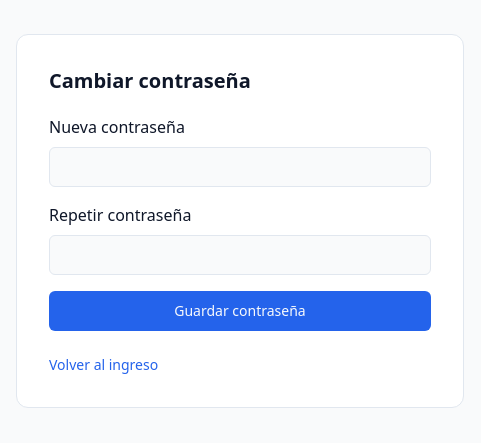
CA-5 reset captura fragmento, valida confirmación y solo entonces envía contraseña
Expected: the heading "Cambiar contraseña" is shown, [49,67,251,94]
Type "FictionalPassword123!" into the password field labelled "Nueva contraseña" at (240, 167), box [49,147,431,187]
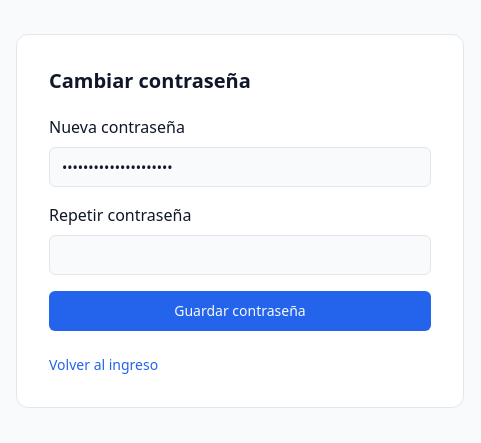
Type "OtraPassword123!" into the password field labelled "Repetir contraseña" at (240, 255), box [49,235,431,275]
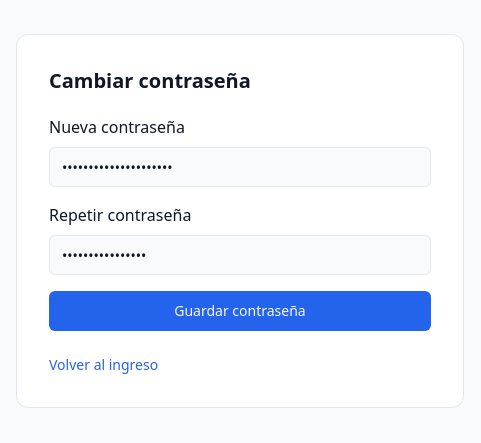
Click the button "Guardar contraseña" at (240, 311), box [49,291,431,331]
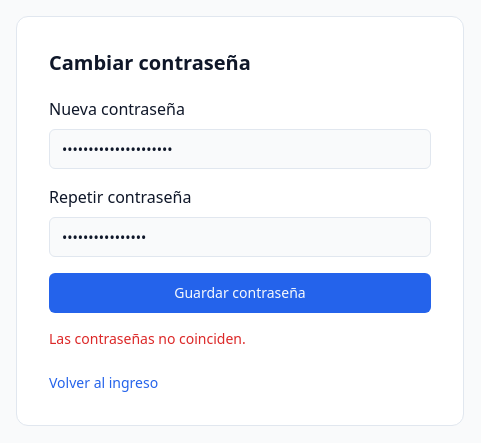
Expected: the message shows "no coinciden", [49,329,246,348]
Type "FictionalPassword123!" into the password field labelled "Repetir contraseña" at (240, 237), box [49,217,431,257]
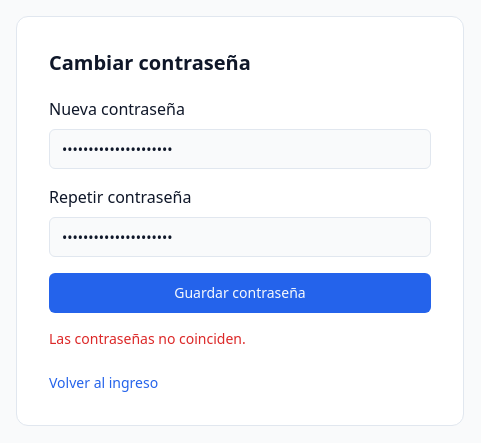
Click the button "Guardar contraseña" at (240, 293), box [49,273,431,313]
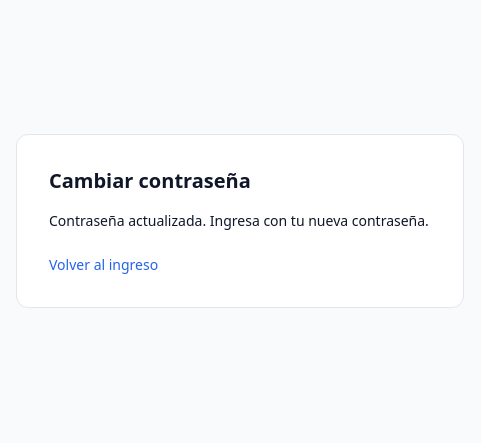
Expected: the text "Contraseña actualizada. Ingresa con tu nueva contraseña." is shown, [49,211,431,231]
